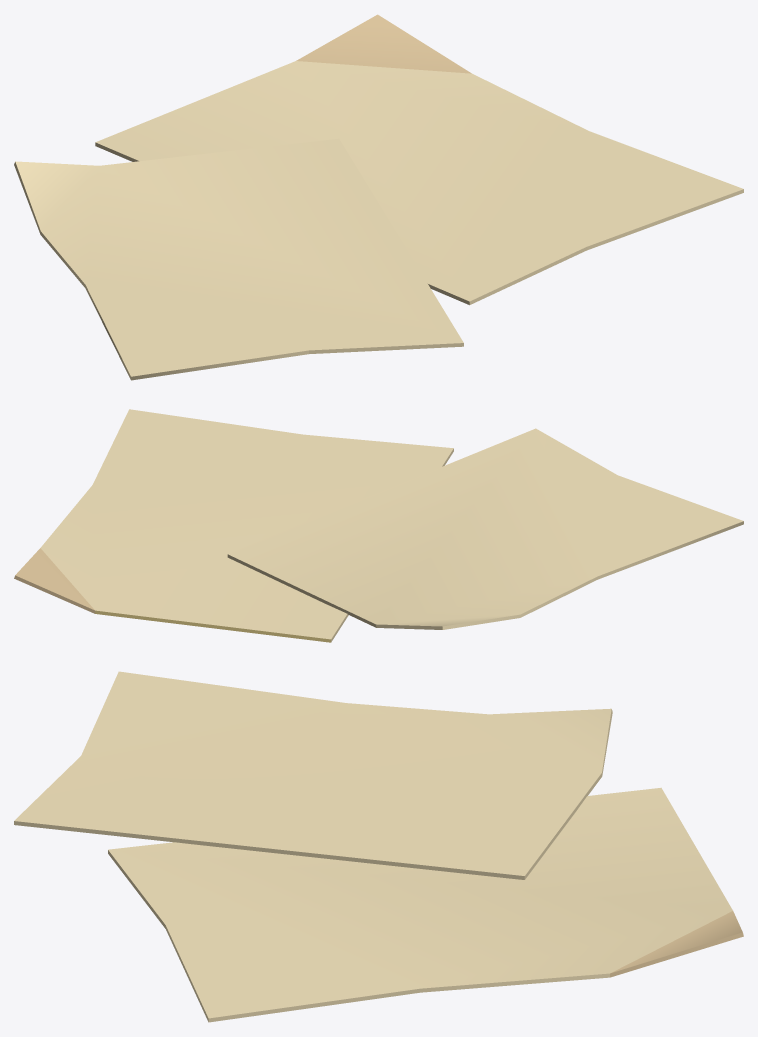
Rendered from papeis_pacote.glb.
3 views of the same model, one above another, from view 1: azimuth 30°, elevation 25°; view 2: azimuth 150°, elevation 25°; view 3: azimuth 270°, elevation 25° (orthographic). The views are drawn at different scales.
Visible parts, largest first — view 1: papeis_pacote; view 2: papeis_pacote; view 3: papeis_pacote.
Part boxes in pixels (bbox=[...]): papeis_pacote: bbox=[14, 14, 743, 380]; papeis_pacote: bbox=[14, 409, 743, 642]; papeis_pacote: bbox=[14, 671, 743, 1022].
Bounding box in the file's own units: 0.2855 × 0.0111 × 0.2558.
1 material, 1 textured.
